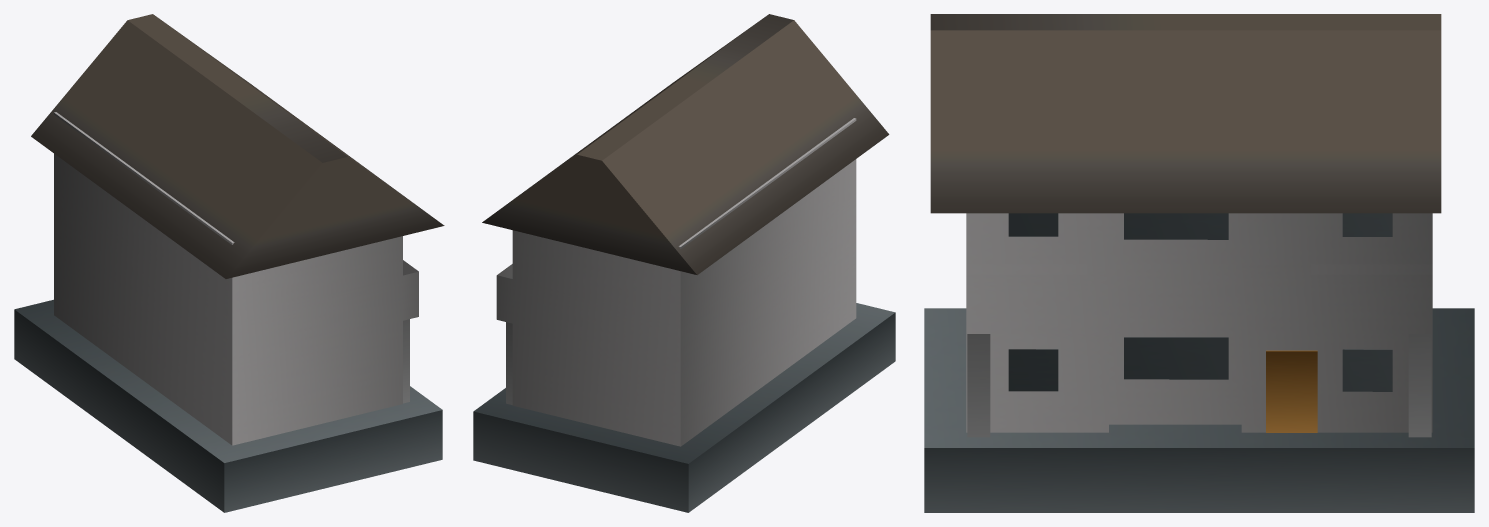
File: House2.fbx
3 views of the same model, side by side, from view 1: azimuth 30°, elevation 25°; view 2: azimuth 150°, elevation 25°; view 3: azimuth 270°, elevation 25° (orthographic). The views are drawn at different scales.
Parts seen in each view (by area): view 1: Cube; view 2: Cube; view 3: Cube.
Part boxes in pixels (x1=…): Cube: x1=14, y1=14, x2=444, y2=512; Cube: x1=473, y1=14, x2=895, y2=512; Cube: x1=924, y1=14, x2=1474, y2=512.
Bounding box in the file's own units: 936 × 1301 × 1531.
